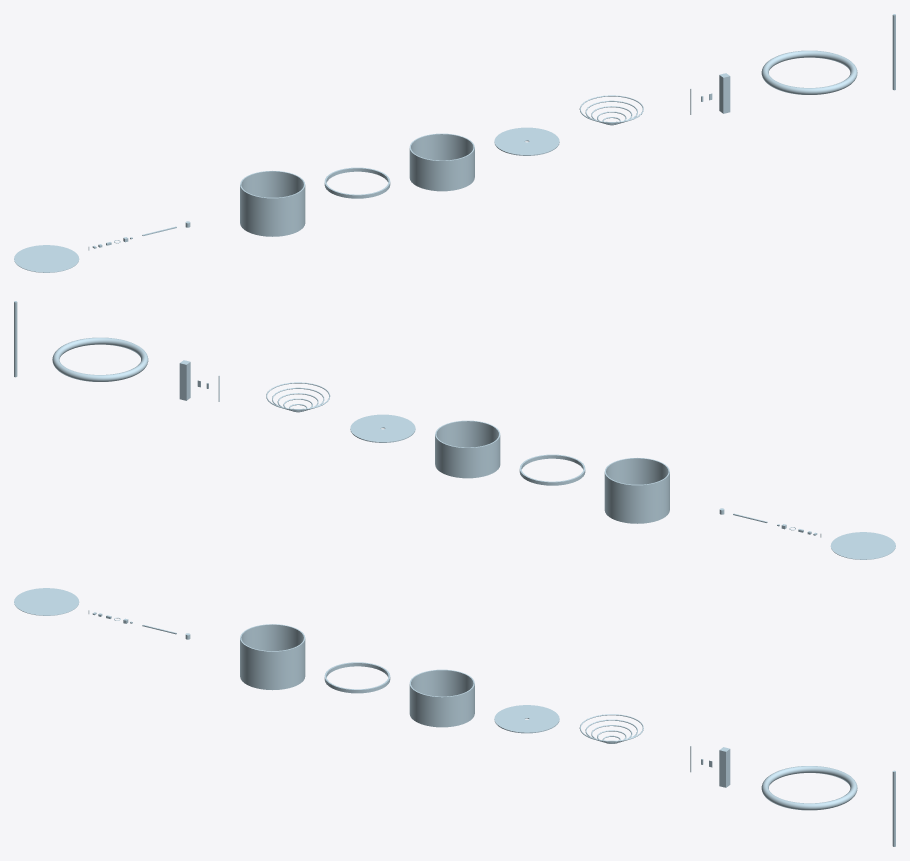
File: gantry_kit.glb
3 renders of one model, top to bottom at view 1: azimuth 30°, elevation 25°; view 2: azimuth 150°, elevation 25°; view 3: azimuth 330°, elevation 25°, orthographic.
Parts seen in each view (by area): view 1: Base wall, Slip wall, Build berm, Deck slab, Gantry roof disc, Slip form; view 2: Base wall, Slip wall, Build berm, Deck slab, Gantry roof disc, Slip form; view 3: Base wall, Slip wall, Build berm, Deck slab, Gantry roof disc, Slip form.
Boxes of the visible parts, x1,y1,x2,y2 form: Base wall: [240, 170, 305, 236]; Slip wall: [409, 133, 474, 191]; Build berm: [761, 50, 857, 94]; Deck slab: [494, 127, 559, 155]; Gantry roof disc: [14, 245, 79, 272]; Slip form: [324, 167, 390, 198]; Base wall: [604, 457, 669, 523]; Slip wall: [435, 420, 500, 478]; Build berm: [52, 337, 148, 381]; Deck slab: [350, 414, 415, 442]; Gantry roof disc: [830, 532, 895, 559]; Slip form: [519, 454, 585, 485]; Base wall: [240, 624, 305, 690]; Slip wall: [409, 669, 474, 727]; Build berm: [761, 766, 857, 810]; Deck slab: [494, 705, 559, 733]; Gantry roof disc: [14, 588, 79, 615]; Slip form: [324, 662, 390, 693].
Bounding box in the file's own units: 311 × 25.31 × 29.39.
